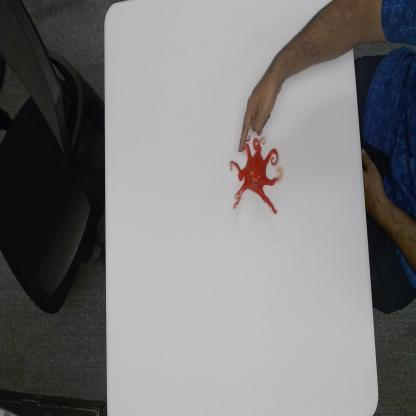Arm: (279, 0, 412, 84)
Hand: (237, 65, 284, 152)
Octopus: (228, 133, 283, 216)
